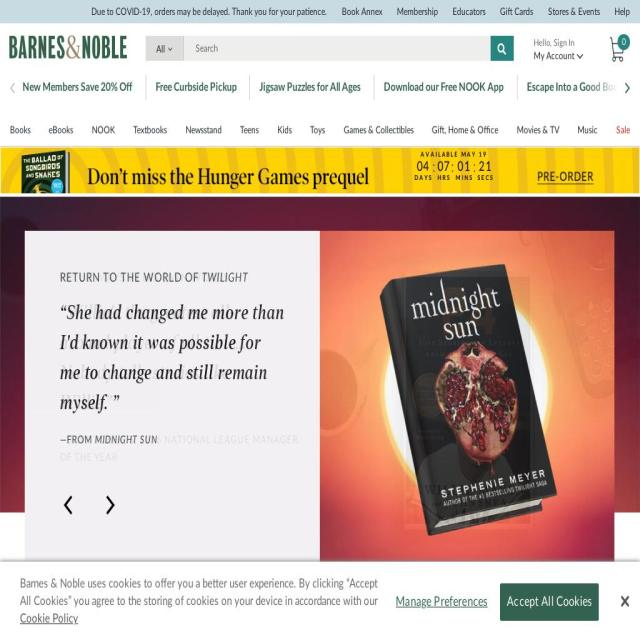button: (0, 196, 640, 563), (0, 146, 640, 194), (9, 31, 127, 65), (500, 583, 599, 622), (389, 584, 488, 621), (91, 6, 328, 16), (343, 117, 414, 146), (432, 117, 499, 146), (383, 83, 509, 94), (22, 83, 138, 94), (516, 117, 560, 146), (259, 83, 367, 94), (526, 83, 628, 94), (185, 117, 222, 146), (133, 117, 168, 146), (145, 36, 183, 62), (533, 50, 584, 69), (155, 83, 243, 94), (20, 612, 78, 626), (48, 117, 74, 146), (91, 117, 115, 146), (10, 117, 30, 146), (578, 117, 598, 146), (240, 117, 259, 146), (548, 6, 600, 16), (310, 117, 326, 146), (609, 36, 626, 62), (534, 37, 574, 48), (277, 117, 292, 146), (396, 6, 438, 16), (106, 489, 116, 531), (616, 117, 630, 146), (342, 6, 382, 16), (64, 489, 73, 531), (452, 6, 487, 16), (500, 6, 534, 16), (614, 6, 630, 16), (9, 80, 15, 95), (625, 80, 631, 95), (625, 109, 631, 124)
field: (195, 36, 491, 62)
heading: (3, 579, 637, 596)
image: (9, 31, 127, 63), (497, 43, 514, 62), (620, 594, 630, 608)
link: (95, 434, 157, 446), (202, 271, 248, 284), (342, 6, 382, 16), (452, 6, 487, 16), (432, 158, 437, 176), (451, 158, 456, 176), (473, 158, 478, 176)
text: (60, 296, 285, 418), (1, 147, 397, 193), (0, 595, 640, 612), (20, 578, 378, 608), (91, 6, 328, 16), (60, 271, 202, 284), (548, 6, 600, 16), (421, 151, 488, 158), (396, 6, 438, 16), (60, 434, 95, 446), (500, 6, 534, 16), (414, 157, 432, 175), (456, 157, 473, 175), (478, 157, 493, 175), (437, 157, 451, 175), (618, 33, 630, 51), (614, 6, 630, 16), (414, 174, 432, 182), (456, 174, 473, 182), (154, 44, 167, 54), (478, 174, 493, 182), (437, 174, 451, 182)
